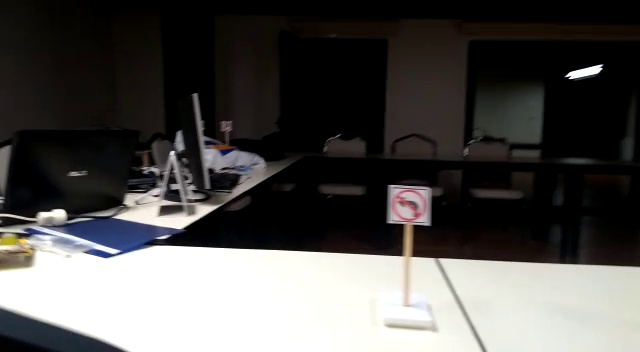sola_donulmez: (391, 186, 431, 224)
